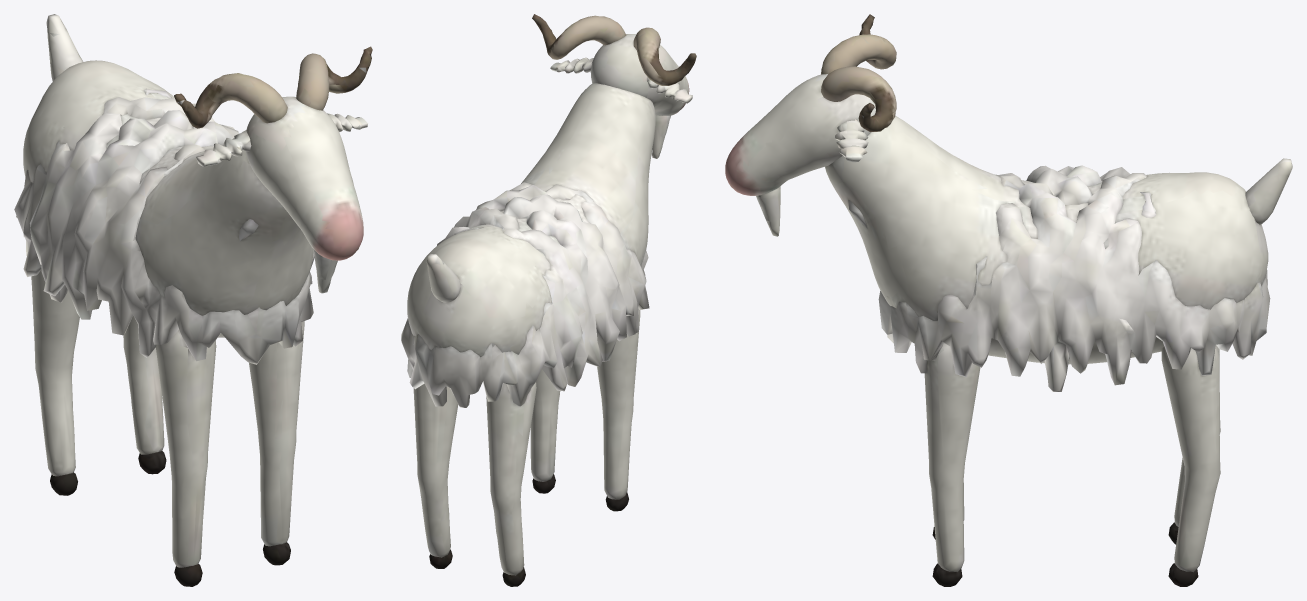
File: animal_angora_goat.glb
3 renders of one model, left to right at view 1: azimuth 30°, elevation 25°; view 2: azimuth 150°, elevation 25°; view 3: azimuth 270°, elevation 25°, orthographic. The views are drawn at different scales.
Parts seen in each view (by area): view 1: animal_angora_goat, head, leg0, leg1, leg2, leg3, tail; view 2: animal_angora_goat, head, leg2, leg3, leg0, leg1, tail; view 3: animal_angora_goat, head, leg3, leg1, tail.
Boxes of the visible parts, x1,y1,x2,y2 form: animal_angora_goat: (14, 60, 314, 364); head: (174, 46, 372, 293); leg0: (155, 330, 216, 586); leg1: (249, 321, 304, 565); leg2: (31, 270, 79, 495); leg3: (123, 315, 166, 474); tail: (46, 14, 83, 81); animal_angora_goat: (401, 83, 655, 407); head: (532, 14, 696, 158); leg2: (486, 382, 536, 586); leg3: (413, 383, 458, 568); leg0: (597, 308, 640, 511); leg1: (530, 369, 560, 493); tail: (426, 254, 460, 302); animal_angora_goat: (825, 116, 1270, 391); head: (725, 14, 896, 236); leg3: (1161, 345, 1220, 586); leg1: (924, 343, 980, 586); tail: (1245, 158, 1292, 224).
Size of the model in its own units: 0.2008 by 0.4924 by 0.4929.
Materials: 1 (1 with a texture image).
